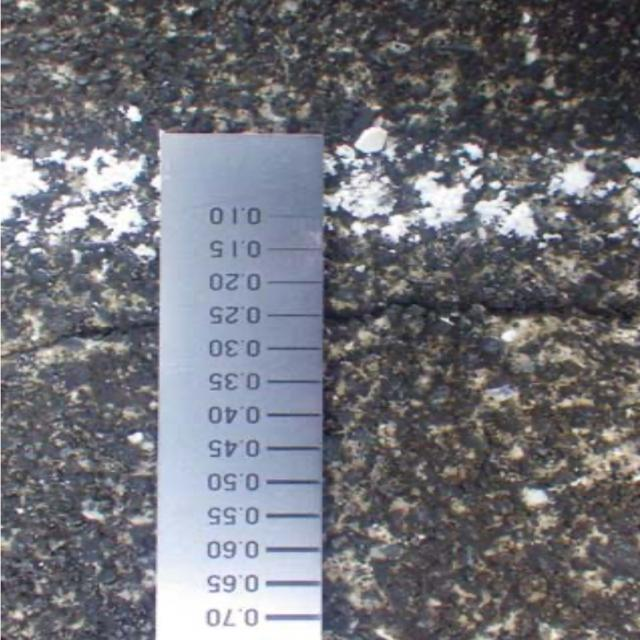crack: (331, 276, 636, 348), (6, 301, 151, 380)
